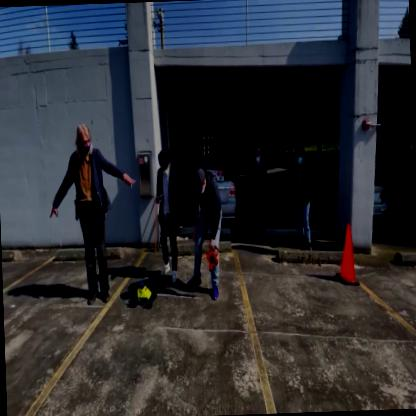cone: (333, 224, 361, 292)
mushr_car: (127, 278, 158, 312)
